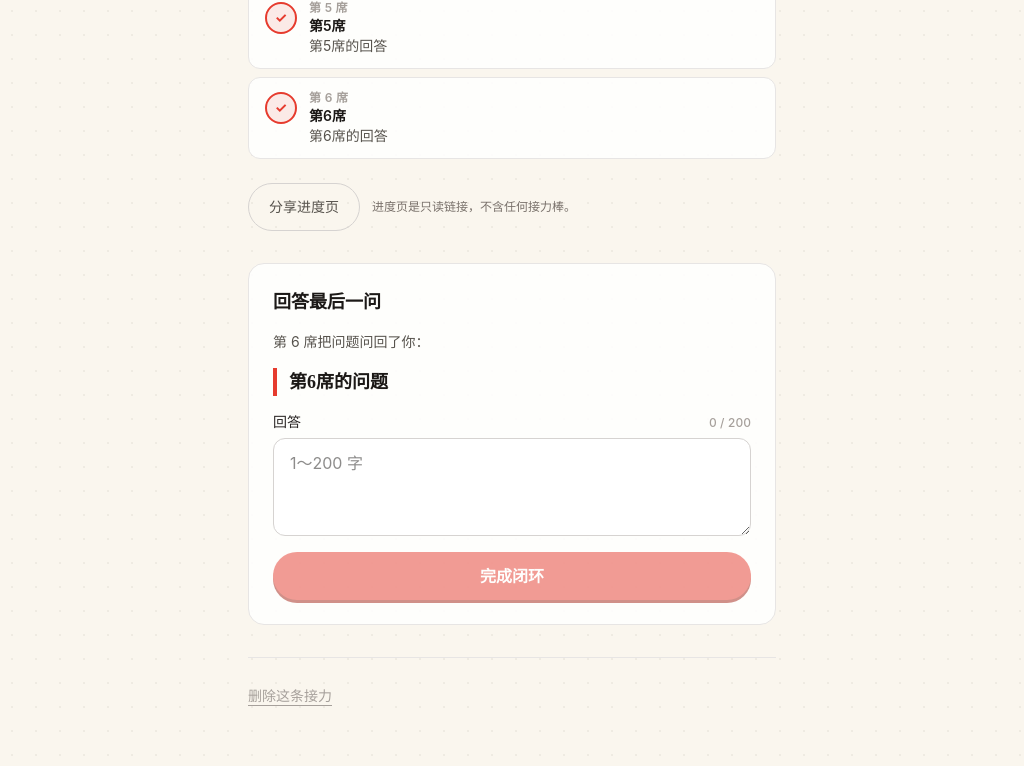
守环页与收尾 › owner 回答 Q6 后进入结果页
(page scrolled)
Expected: the heading "回答最后一问" is shown, x1=273 y1=291 x2=381 y2=312
In the text box labelled "回答 0 / 200": (512, 487) x1=273 y1=438 x2=751 y2=536, type "值得。"
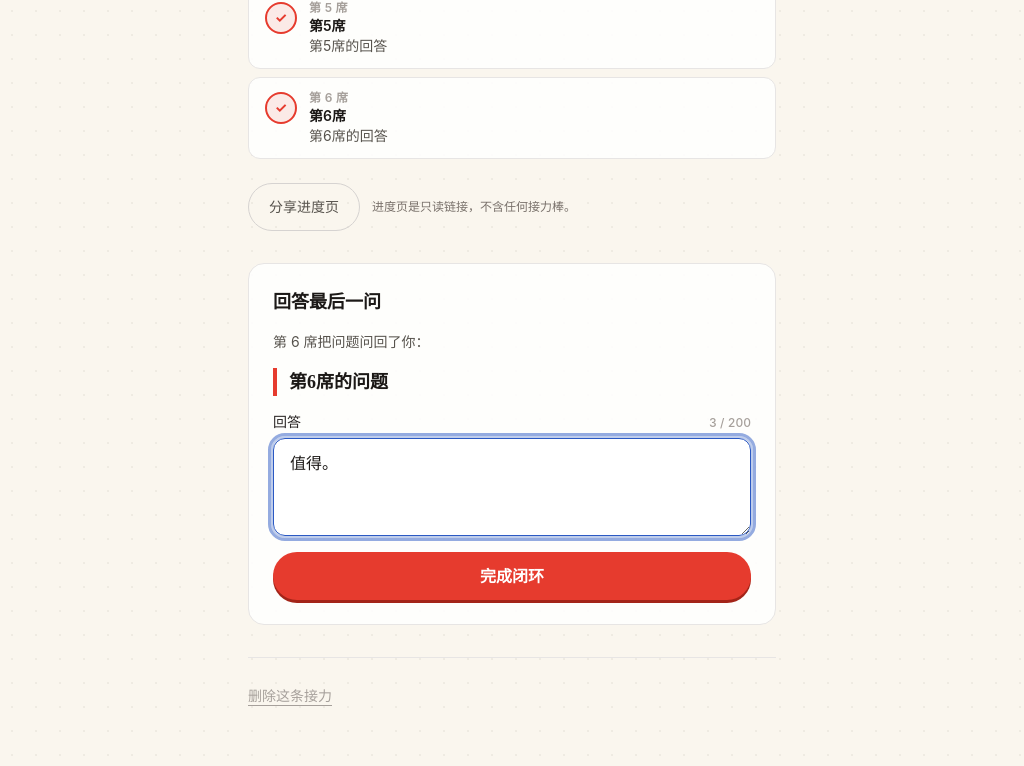
Click the button "完成闭环": (512, 576) x1=273 y1=552 x2=751 y2=600
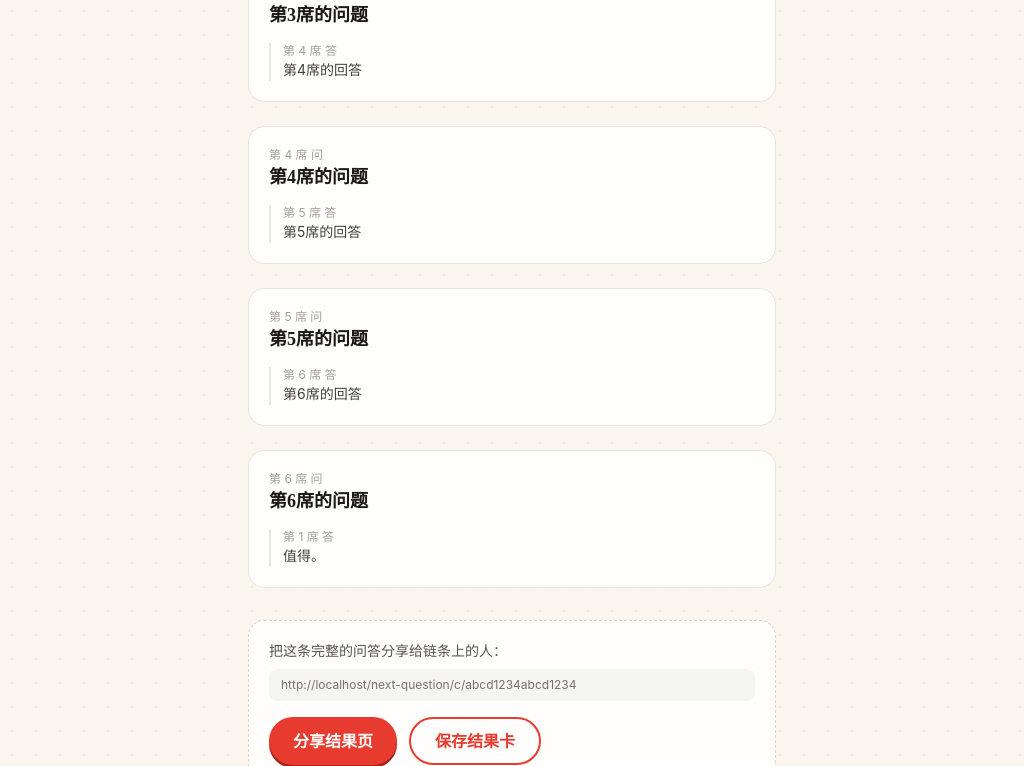
Expected: the text "值得。" is shown, x1=283 y1=546 x2=325 y2=564
